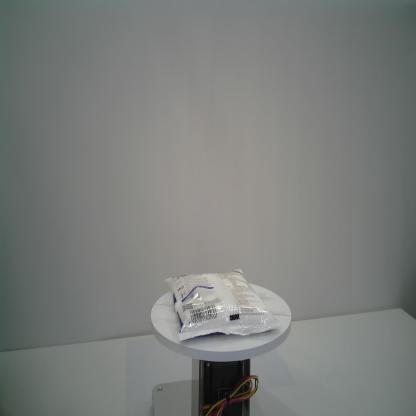Seasoner: (165, 268, 282, 342)
